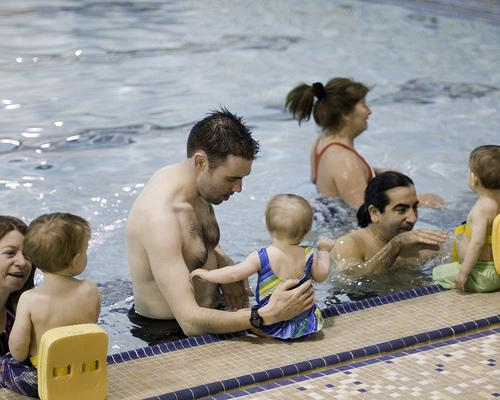human: (130, 108, 260, 341), (0, 214, 113, 390), (205, 191, 334, 337), (330, 174, 440, 282), (293, 75, 378, 214), (444, 142, 500, 300)
